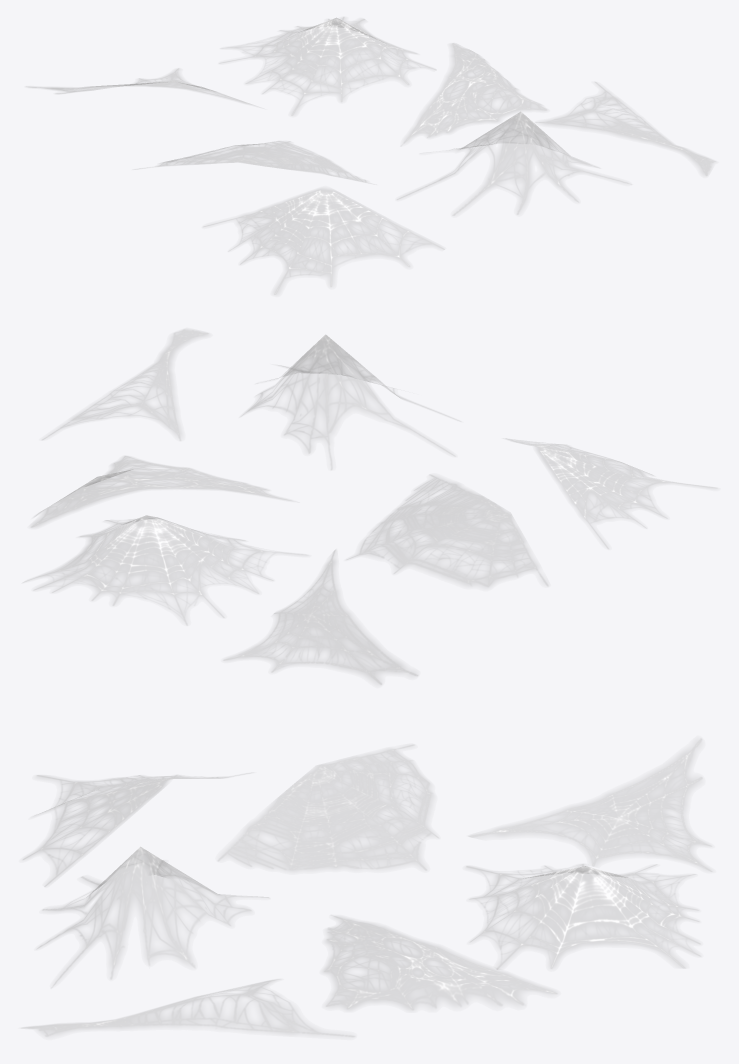
The picture shows the model from 3 angles, top to bottom: view 1: azimuth 30°, elevation 25°; view 2: azimuth 150°, elevation 25°; view 3: azimuth 270°, elevation 25°; orthographic projection. The views are drawn at different scales.
Parts seen in each view (by area): view 1: cobweb.003, cobweb.006, cobweb.005, cobweb.001, cobweb.002, cobweb.004, cobweb.007; view 2: cobweb.006, cobweb.002, cobweb.007, cobweb.001, cobweb.003, cobweb.005, cobweb.004; view 3: cobweb.002, cobweb.006, cobweb.005, cobweb.007, cobweb.001, cobweb.003, cobweb.004.
Boxes of the visible parts, x1,y1,x2,y2 form: cobweb.003: (203,188,444,294); cobweb.006: (219,17,435,115); cobweb.005: (403,43,546,143); cobweb.001: (397,111,628,215); cobweb.002: (140,141,366,182); cobweb.004: (536,82,715,175); cobweb.007: (29,68,254,105); cobweb.006: (23,515,307,624); cobweb.002: (347,475,548,587); cobweb.007: (223,550,417,684); cobweb.001: (242,334,458,469); cobweb.003: (505,438,716,548); cobweb.005: (31,456,291,527); cobweb.004: (42,329,208,440); cobweb.002: (218,745,438,870); cobweb.006: (466,864,700,969); cobweb.005: (323,916,557,1010); cobweb.007: (469,739,711,871); cobweb.001: (37,846,268,985); cobweb.003: (23,773,249,886); cobweb.004: (23,979,354,1036).
Bounding box in the file's own units: 4.04 × 0.7605 × 3.97.
Materials: 1 (1 with a texture image).
